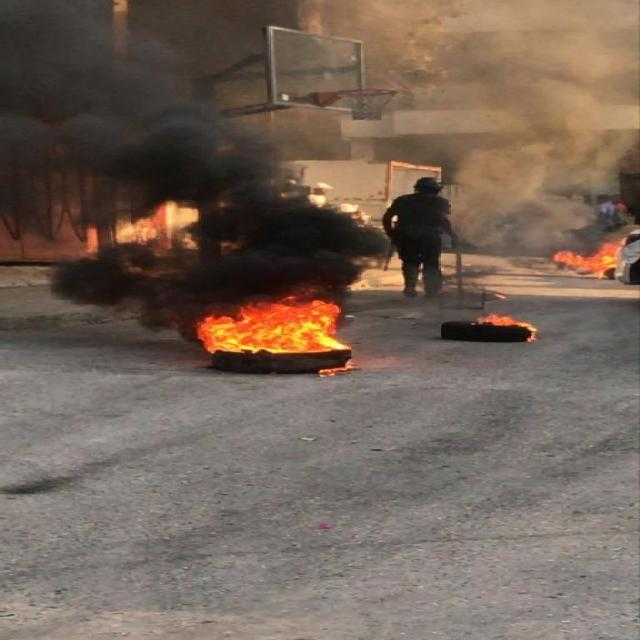fire: (198, 298, 349, 353), (554, 249, 620, 270)
